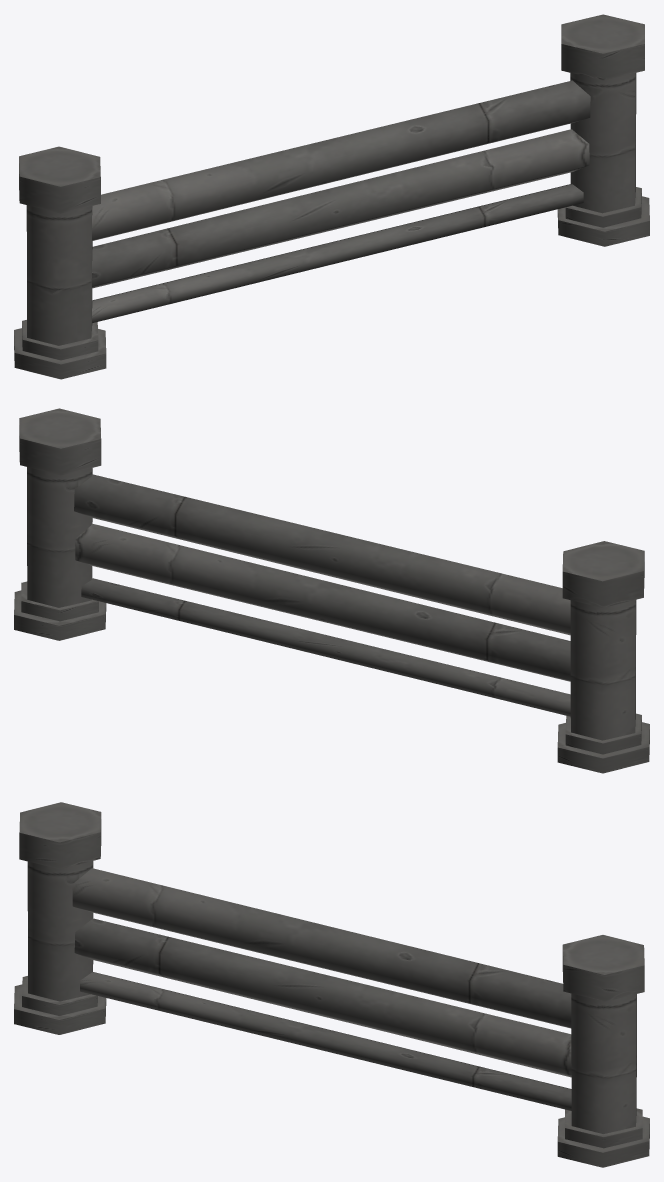
Rendered from Prfb_Roadblock_temp3.fbx.
3 renders of one model, top to bottom at view 1: azimuth 30°, elevation 25°; view 2: azimuth 150°, elevation 25°; view 3: azimuth 330°, elevation 25°, orthographic.
Visible parts, largest first — view 1: Mat_BarbedWire_01 2; view 2: Mat_BarbedWire_01 2; view 3: Mat_BarbedWire_01 2.
Boxes of the visible parts, x1,y1,x2,y2 form: Mat_BarbedWire_01 2: (14, 14, 649, 379); Mat_BarbedWire_01 2: (14, 408, 649, 773); Mat_BarbedWire_01 2: (14, 802, 649, 1167).
Size of the model in its own units: 2.56 by 0.7308 by 0.3283.
Materials: 1 (1 with a texture image).
